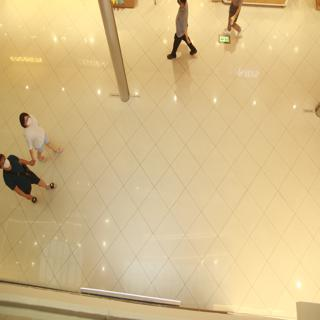person: (157, 1, 211, 73), (1, 150, 58, 214), (12, 103, 62, 171)
